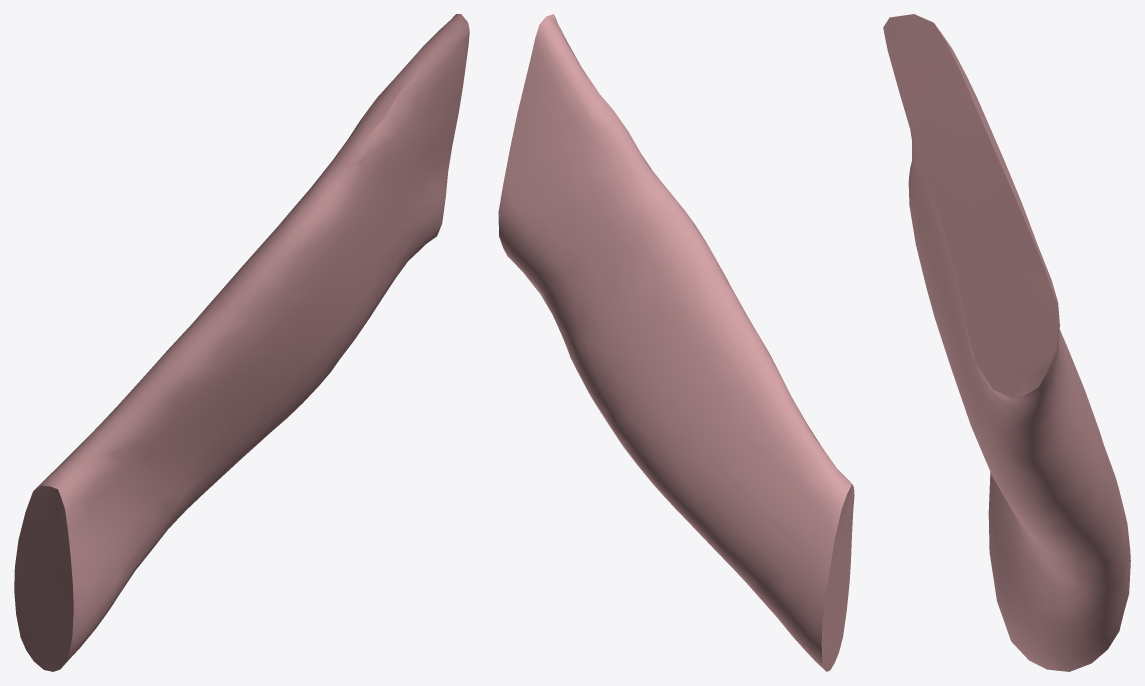
File: fma297726_mm4010m.glb
3 views of the same model, side by side, from view 1: azimuth 30°, elevation 25°; view 2: azimuth 150°, elevation 25°; view 3: azimuth 270°, elevation 25° (orthographic). The views are drawn at different scales.
Visible parts, largest first — view 1: FMA297726_MM4010M; view 2: FMA297726_MM4010M; view 3: FMA297726_MM4010M.
Part boxes in pixels (box(x1,y1,x2,y2)): FMA297726_MM4010M: box(14, 14, 469, 671); FMA297726_MM4010M: box(498, 14, 854, 671); FMA297726_MM4010M: box(883, 14, 1130, 671).
Bounding box in the file's own units: 0.0466 × 0.0696 × 0.0167.
